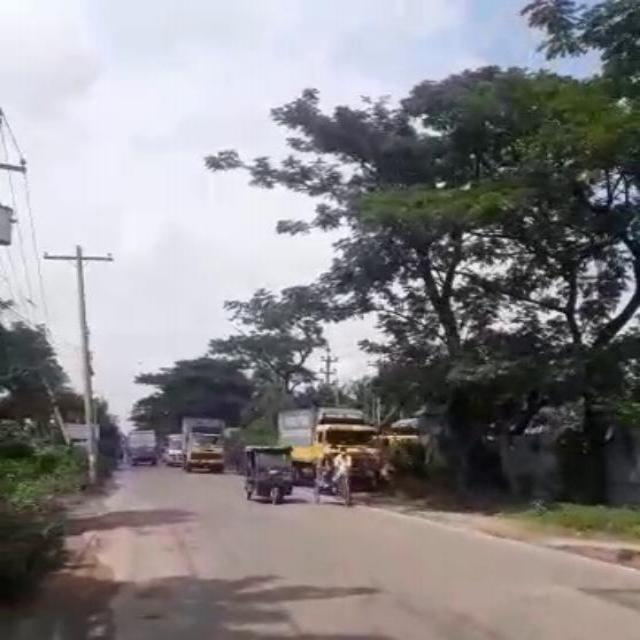vehicle: (278, 408, 382, 474), (244, 443, 295, 500), (311, 443, 356, 504), (178, 418, 227, 471), (160, 435, 183, 463)
